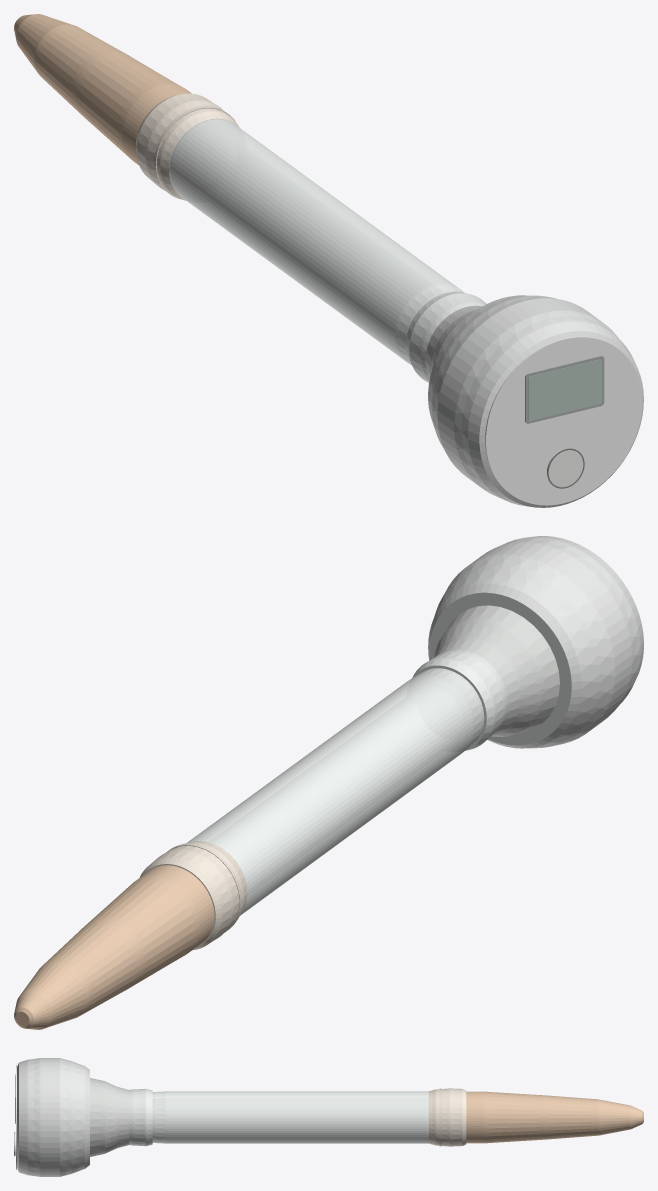
The model's file is digital-tensiometer.glb.
The picture shows the model from 3 angles, top to bottom: view 1: azimuth 30°, elevation 25°; view 2: azimuth 150°, elevation 25°; view 3: azimuth 270°, elevation 25°; orthographic projection. The views are drawn at different scales.
Parts seen in each view (by area): view 1: 04_Tubo_de_medicion, 08_Cabeza_electronica, 10_Cara_superior_plata, 01_Punta_ceramica_porosa, 02_Collar_ceramico_crema, 12_Pantalla_LCD, 06_Anillo_cierre_tubo, 13_Boton_ON, 07_Cuello_cabezal, 11_Bisel_LDC; view 2: 04_Tubo_de_medicion, 08_Cabeza_electronica, 01_Punta_ceramica_porosa, 07_Cuello_cabezal, 02_Collar_ceramico_crema, 06_Anillo_cierre_tubo; view 3: 04_Tubo_de_medicion, 08_Cabeza_electronica, 01_Punta_ceramica_porosa, 07_Cuello_cabezal, 02_Collar_ceramico_crema, 06_Anillo_cierre_tubo.
Part boxes in pixels (box(x1,y1,x2,y2)): 04_Tubo_de_medicion: box(169, 119, 464, 364); 08_Cabeza_electronica: box(428, 295, 643, 507); 10_Cara_superior_plata: box(485, 336, 642, 505); 01_Punta_ceramica_porosa: box(14, 14, 191, 165); 02_Collar_ceramico_crema: box(136, 93, 239, 200); 12_Pantalla_LCD: box(528, 359, 601, 420); 06_Anillo_cierre_tubo: box(406, 291, 486, 382); 13_Boton_ON: box(547, 448, 583, 487); 07_Cuello_cabezal: box(425, 305, 481, 377); 11_Bisel_LDC: box(525, 356, 604, 423); 04_Tubo_de_medicion: box(187, 668, 484, 915); 08_Cabeza_electronica: box(428, 536, 643, 748); 01_Punta_ceramica_porosa: box(14, 865, 214, 1029); 07_Cuello_cabezal: box(433, 605, 559, 736); 02_Collar_ceramico_crema: box(140, 841, 247, 950); 06_Anillo_cierre_tubo: box(412, 649, 508, 750); 04_Tubo_de_medicion: box(152, 1091, 428, 1143); 08_Cabeza_electronica: box(17, 1058, 89, 1176); 01_Punta_ceramica_porosa: box(466, 1091, 643, 1143); 07_Cuello_cabezal: box(90, 1078, 129, 1156); 02_Collar_ceramico_crema: box(428, 1088, 466, 1146); 06_Anillo_cierre_tubo: box(129, 1088, 152, 1146).
Size of the model in its own units: 44.47 by 44.49 by 236.
